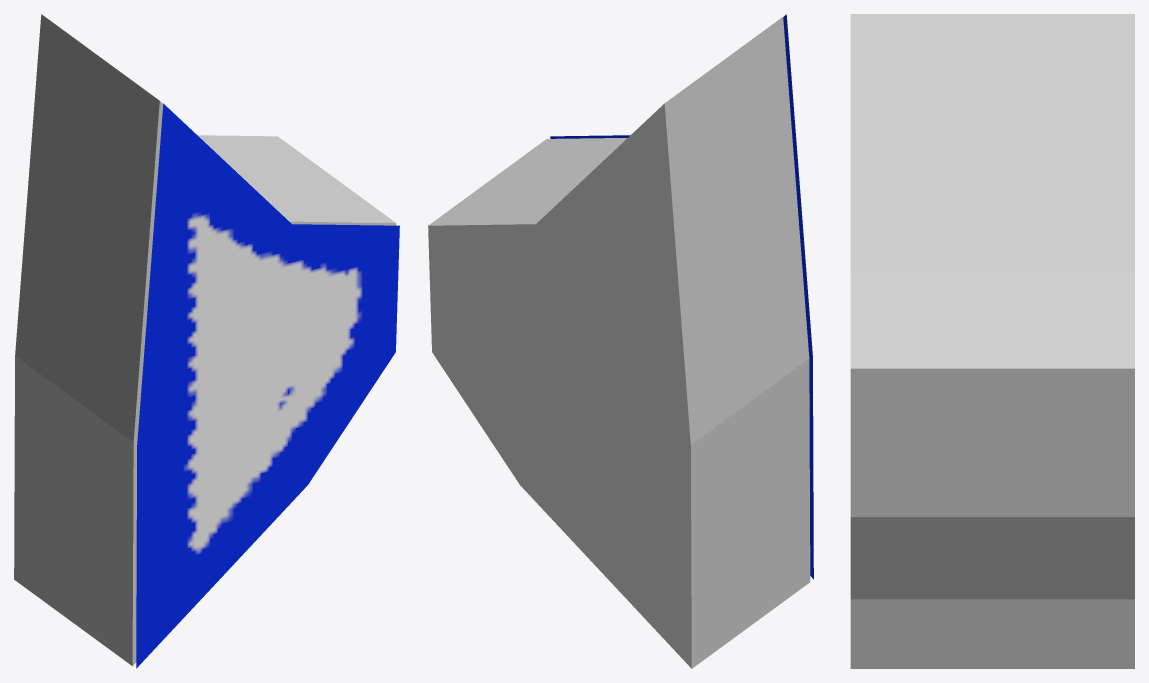
The picture shows the model from 3 angles, left to right: view 1: azimuth 30°, elevation 25°; view 2: azimuth 150°, elevation 25°; view 3: azimuth 270°, elevation 25°; orthographic projection. The views are drawn at different scales.
Visible parts, largest first — view 1: In4_1, In4_0; view 2: In4_0, In4_1; view 3: In4_0.
Part boxes in pixels (<box>): In4_1: <box>136,103,399,668</box>; In4_0: <box>14,14,396,666</box>; In4_0: <box>428,17,810,668</box>; In4_1: <box>550,14,813,579</box>; In4_0: <box>850,14,1134,668</box>.
Bounding box in the file's own units: 0.6424 × 1.3 × 0.515.
2 materials, 1 textured.
